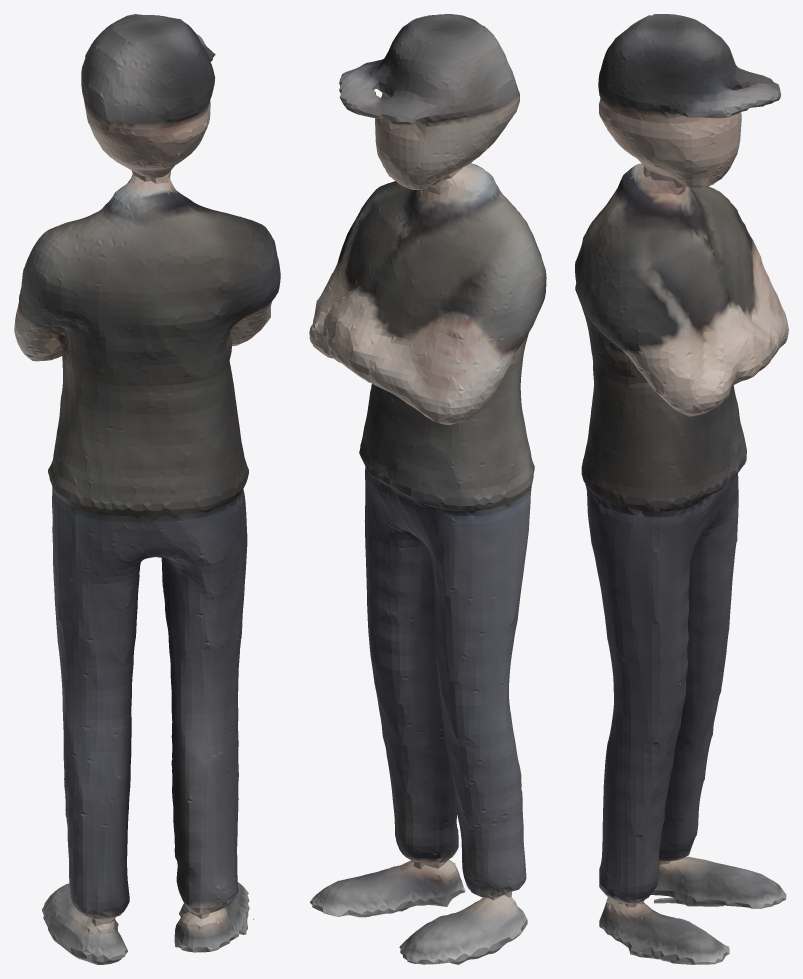
Rendered from Supply Chain.glb.
3 renders of one model, left to right at view 1: azimuth 30°, elevation 25°; view 2: azimuth 150°, elevation 25°; view 3: azimuth 270°, elevation 25°, orthographic. The views are drawn at different scales.
Parts seen in each view (by area): view 1: world; view 2: world; view 3: world.
Part boxes in pixels (box(x1,y1,x2,y2)): world: box(14, 14, 280, 964); world: box(309, 14, 546, 964); world: box(575, 14, 788, 964).
Size of the model in its own units: 0.5155 by 2 by 0.4334.
